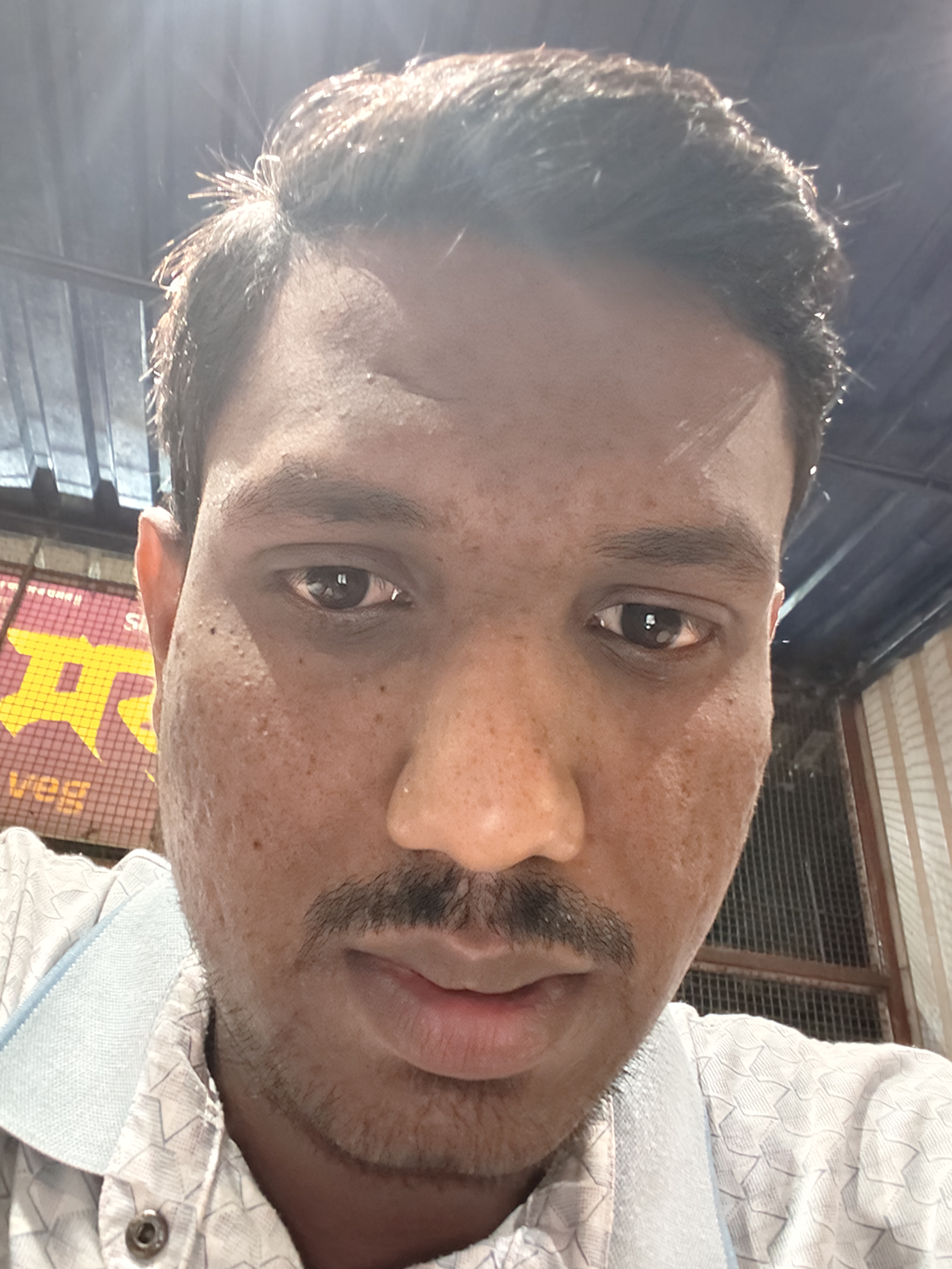closed_comedone: (383, 389, 443, 441), (214, 640, 255, 660), (238, 678, 273, 694)
